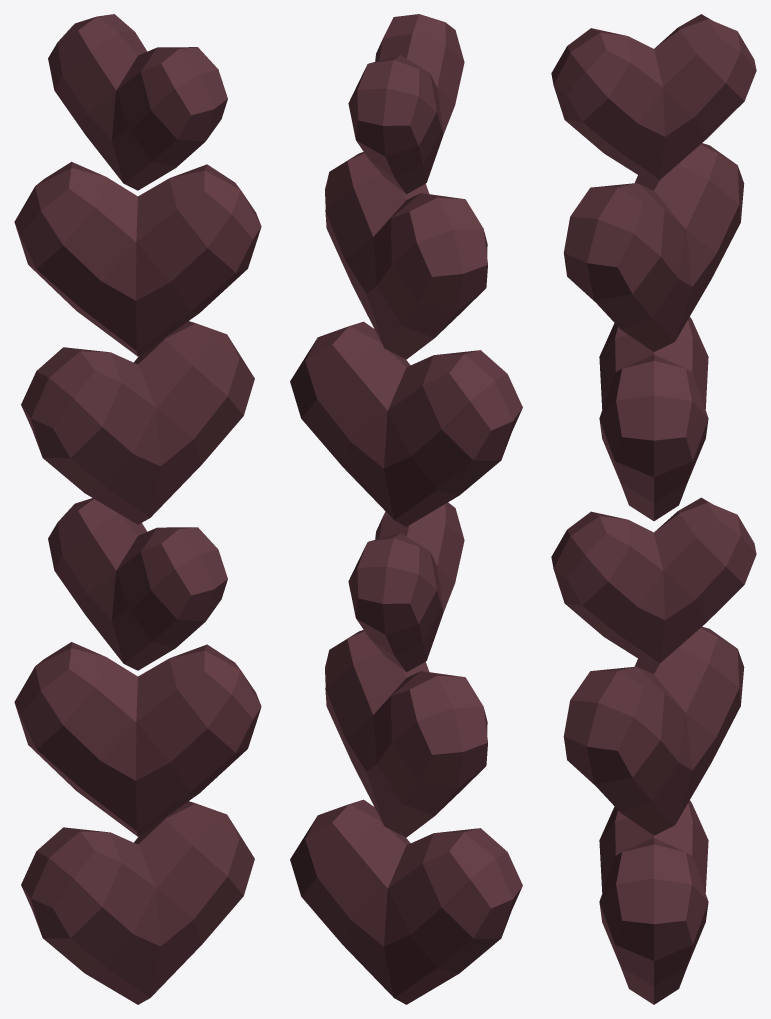
Rendered from 002_Heart.fbx.
3 views of the same model, side by side, from view 1: azimuth 30°, elevation 25°; view 2: azimuth 150°, elevation 25°; view 3: azimuth 270°, elevation 25° (orthographic).
Parts seen in each view (by area): view 1: heart2; view 2: heart2; view 3: heart2.
Part boxes in pixels (x1,y1,x2,y2): heart2: [14, 14, 261, 1004]; heart2: [290, 14, 522, 1004]; heart2: [551, 14, 756, 1004].
Bounding box in the file's own units: 45.27 × 196 × 37.3.
